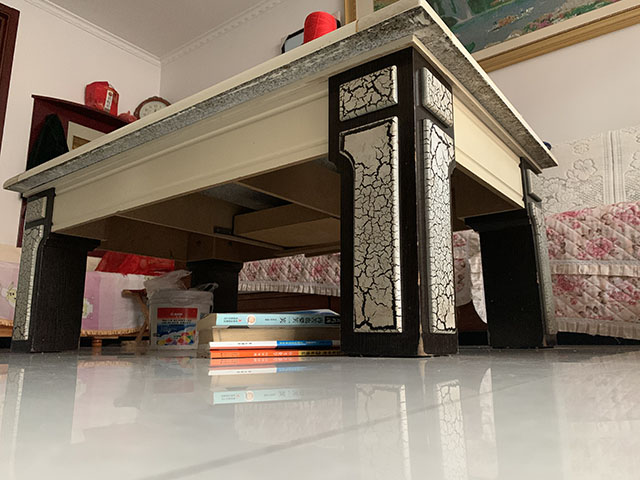book: (195, 308, 342, 359)
sofa: (234, 121, 640, 350)
stool: (120, 288, 150, 346)
table: (1, 1, 561, 360)
